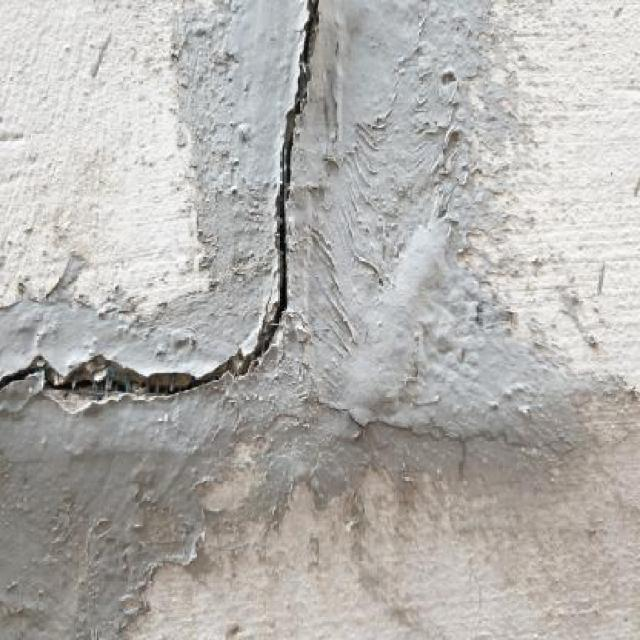horizontal crack: (0, 314, 285, 406)
vertical crack: (279, 0, 319, 311)
